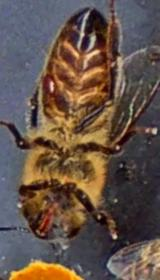varroa_mite: (36, 64, 66, 102)
